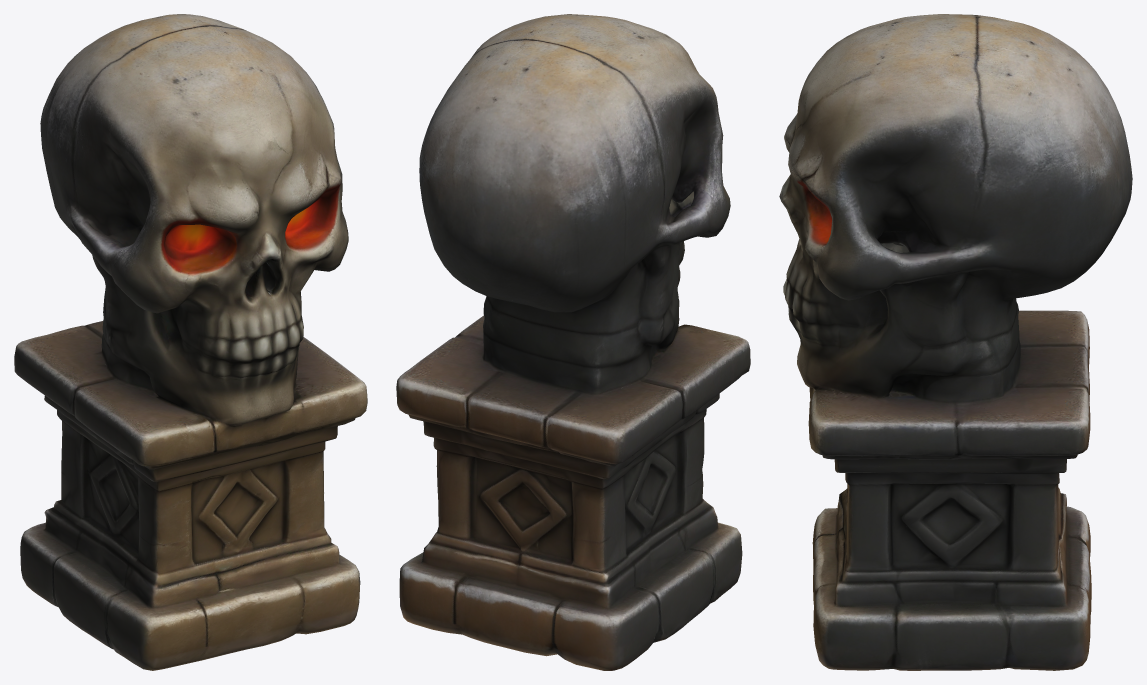
Rendered from skull_idol.glb.
3 renders of one model, left to right at view 1: azimuth 30°, elevation 25°; view 2: azimuth 150°, elevation 25°; view 3: azimuth 270°, elevation 25°, orthographic. The views are drawn at different scales.
Size of the model in its own units: 0.8603 by 2 by 1.09.
1 material, 1 textured.
